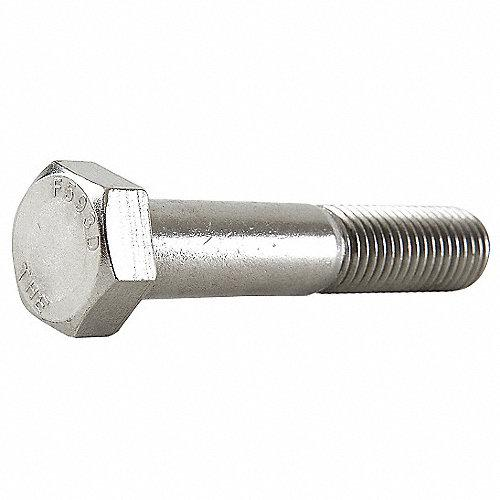Tornillo: (7, 153, 493, 341)
